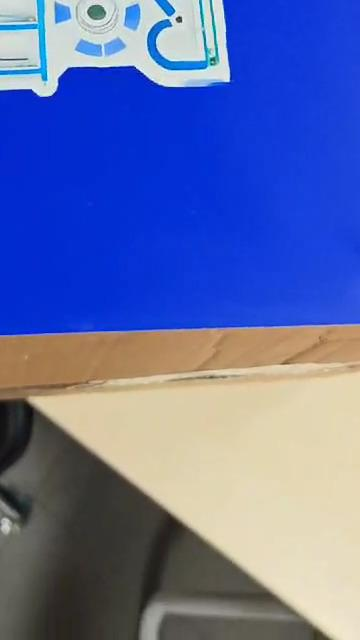B_R1: (0, 0, 359, 181)
